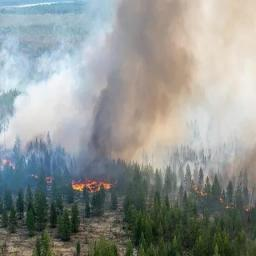Heavy smoke: (7, 1, 256, 185)
Medium fire: (0, 141, 255, 210)
